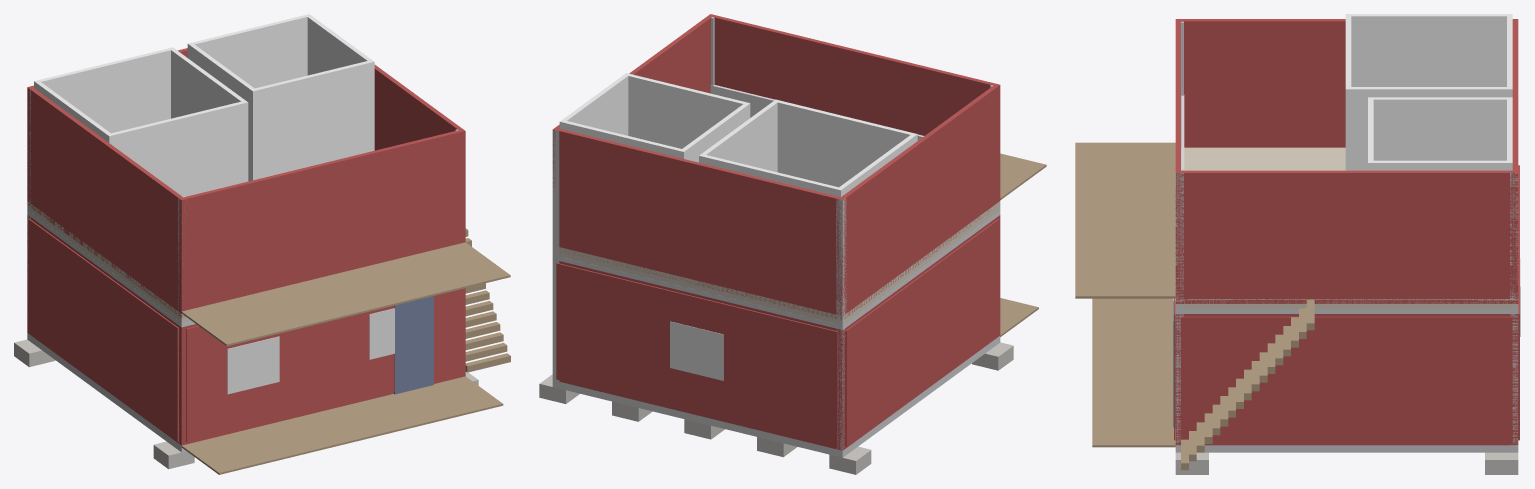
The model's file is Duplex-20-Base-CrimsonRed-LOD2.glb.
3 renders of one model, left to right at view 1: azimuth 30°, elevation 25°; view 2: azimuth 150°, elevation 25°; view 3: azimuth 270°, elevation 25°, orthographic. The views are drawn at different scales.
Visible parts, largest first — view 1: ExteriorShellUpper, ExteriorPanelsStandard, StudyUpper, BedroomUpper, BalconyUpper, BalconyGround, WindowsStandard, EntryDoor, StaircaseExternal, ExteriorShell, FoundationBlocks, FloorUpper (+2 smaller); view 2: ExteriorShellUpper, ExteriorPanelsStandard, BedroomUpper, StudyUpper, FloorUpper, VerticalStructure, FoundationBlocks, BaseFrame, ExteriorShell, WindowsStandard, TopFrame, BalconyUpper (+2 smaller); view 3: ExteriorShellUpper, ExteriorPanelsStandard, BalconyUpper, BedroomUpper, BalconyGround, StudyUpper, FloorUpper, StaircaseExternal, ExteriorShell, VerticalStructure, BaseFrame, TopFrame (+1 smaller).
Part boxes in pixels (x1,y1,x2,y2): ExteriorShellUpper: (27,48,465,317); ExteriorPanelsStandard: (28,218,461,442); StudyUpper: (187,14,374,181); BedroomUpper: (34,47,248,196); BalconyUpper: (181,242,510,346); BalconyGround: (181,376,503,474); WindowsStandard: (227,308,394,394); EntryDoor: (394,296,433,394); StaircaseExternal: (465,228,510,372); ExteriorShell: (27,215,465,445); FoundationBlocks: (14,339,478,469); FloorUpper: (27,201,190,322); ExteriorShellUpper: (552,14,1000,319); ExteriorPanelsStandard: (556,219,999,447); BedroomUpper: (699,99,917,197); StudyUpper: (559,73,750,162); FloorUpper: (559,201,1000,325); VerticalStructure: (552,17,998,450); FoundationBlocks: (539,342,1013,474); BaseFrame: (552,336,1000,457); ExteriorShell: (559,215,1000,450); WindowsStandard: (670,321,723,380); TopFrame: (559,210,1000,329); BalconyUpper: (1000,153,1046,199); ExteriorShellUpper: (1175,19,1518,303); ExteriorPanelsStandard: (1174,165,1519,443); BalconyUpper: (1075,142,1175,298); BedroomUpper: (1345,14,1512,170); BalconyGround: (1092,298,1175,447); StudyUpper: (1368,97,1512,170); FloorUpper: (1175,147,1518,308); StaircaseExternal: (1181,299,1314,470); ExteriorShell: (1175,314,1518,445); VerticalStructure: (1175,21,1518,445); BaseFrame: (1175,445,1518,452); TopFrame: (1175,309,1518,313).
Bounding box in the file's own units: 7.94 × 6 × 8.
